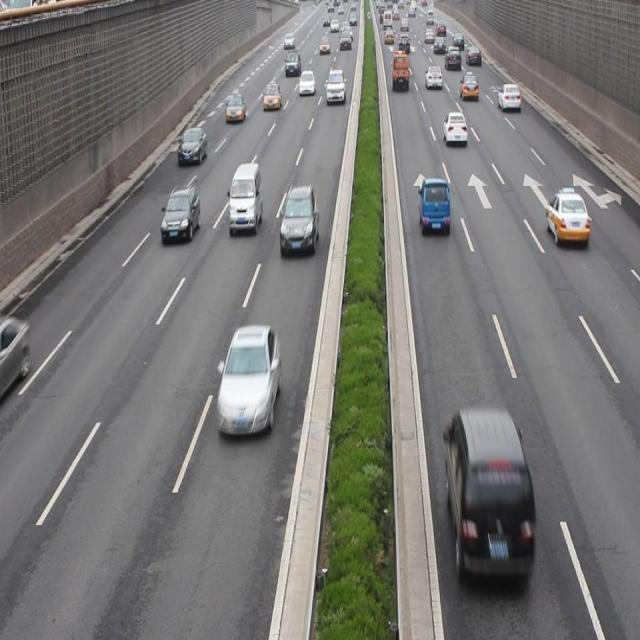car: (218, 326, 278, 437), (279, 185, 318, 254), (545, 188, 589, 248), (162, 188, 200, 241), (418, 177, 449, 234), (178, 127, 206, 162), (441, 112, 466, 148)
truck: (442, 406, 534, 584), (228, 161, 262, 234)
